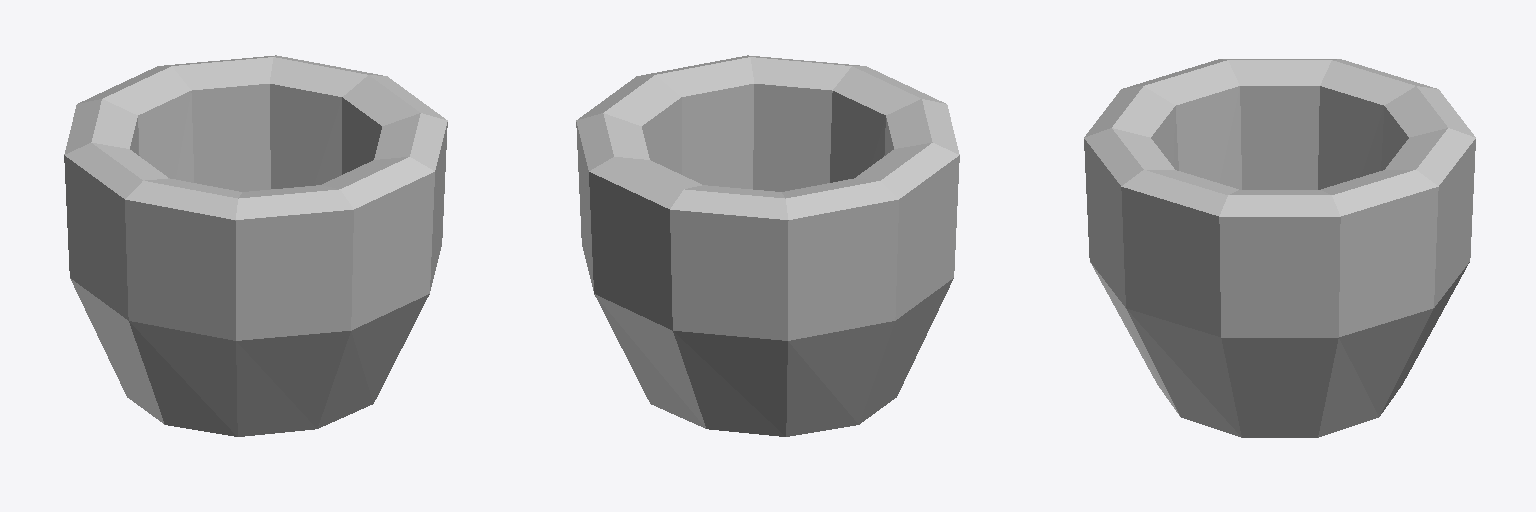
The model's file is cup_empty.obj.
3 renders of one model, left to right at view 1: azimuth 30°, elevation 25°; view 2: azimuth 150°, elevation 25°; view 3: azimuth 270°, elevation 25°, orthographic.
Visible parts, largest first — view 1: cup_empty_Cylinder.290; view 2: cup_empty_Cylinder.290; view 3: cup_empty_Cylinder.290.
Part boxes in pixels (x1,y1,x2,y2): cup_empty_Cylinder.290: (64,55,447,436); cup_empty_Cylinder.290: (576,55,959,436); cup_empty_Cylinder.290: (1084,59,1475,437).
Bounding box in the file's own units: 0.2814 × 0.2134 × 0.2959.